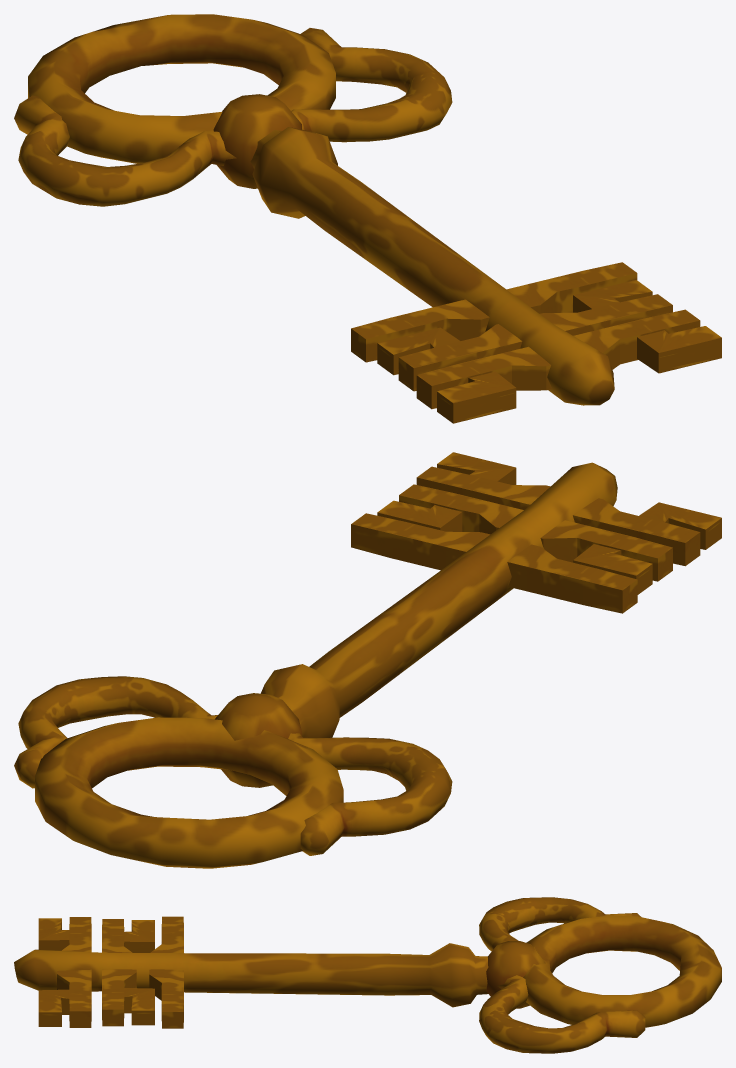
The model's file is Key_Gold.gltf.
3 renders of one model, top to bottom at view 1: azimuth 30°, elevation 25°; view 2: azimuth 150°, elevation 25°; view 3: azimuth 270°, elevation 25°, orthographic. The views are drawn at different scales.
Parts seen in each view (by area): view 1: Key_Gold; view 2: Key_Gold; view 3: Key_Gold.
Part boxes in pixels (bbox=[...]): Key_Gold: bbox=[14, 14, 721, 423]; Key_Gold: bbox=[14, 452, 721, 868]; Key_Gold: bbox=[14, 897, 721, 1053].
Size of the model in its own units: 0.0581 by 0.0123 by 0.1223.
1 material, 1 textured.
